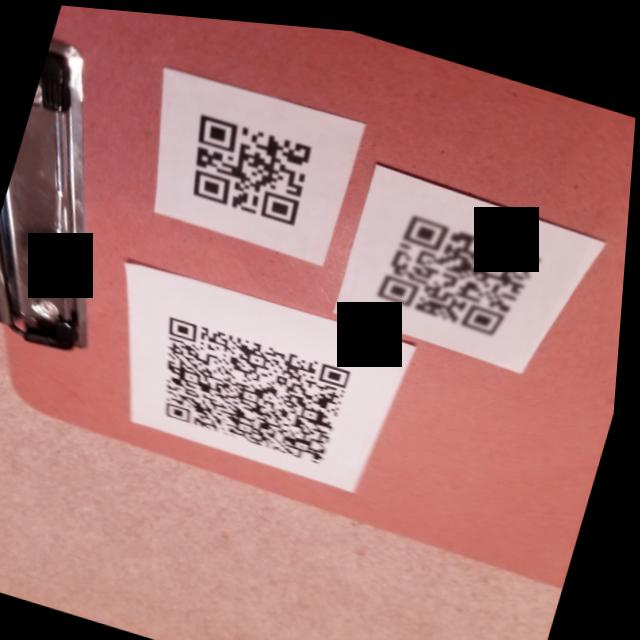QR_CODE: (130, 298, 376, 477), (362, 185, 560, 349), (165, 90, 336, 234)
